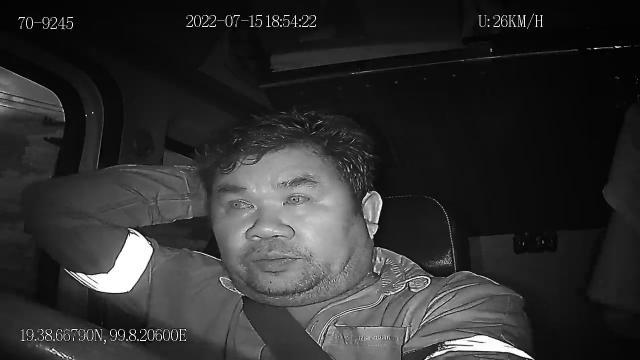SafeDriving: (218, 188, 262, 214), (278, 181, 318, 209)
Seatbelt: (240, 294, 334, 360)
